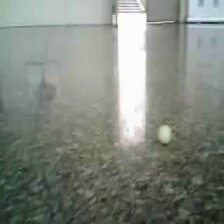w: (156, 123, 175, 147)
